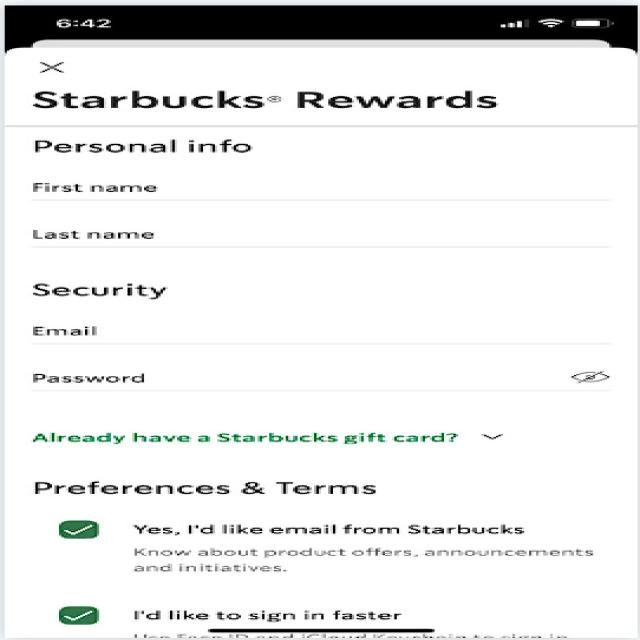icon button: (24, 49, 92, 78)
input: (15, 208, 632, 258), (15, 160, 628, 205), (9, 307, 621, 352), (10, 358, 623, 402)
text: (24, 478, 609, 638), (18, 83, 524, 120), (9, 427, 526, 454), (7, 130, 312, 158), (18, 276, 215, 301)
